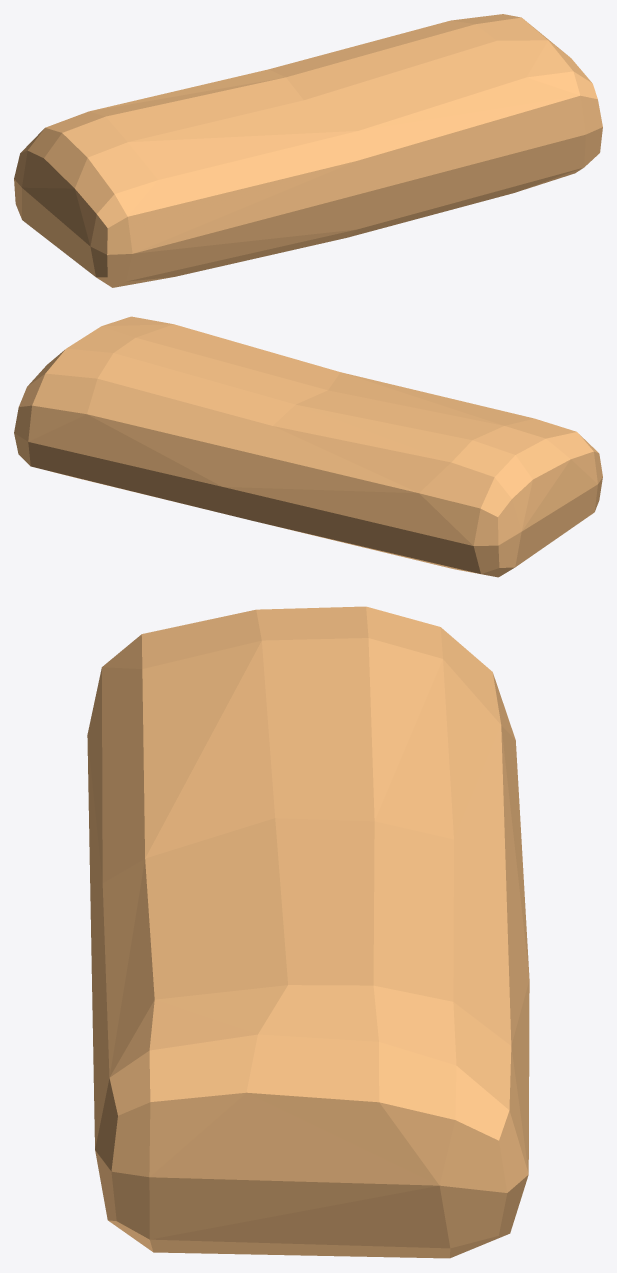
The model's file is Sandbag 01.fbx.
3 renders of one model, top to bottom at view 1: azimuth 30°, elevation 25°; view 2: azimuth 150°, elevation 25°; view 3: azimuth 270°, elevation 25°, orthographic. The views are drawn at different scales.
Visible parts, largest first — view 1: Sandbag 01; view 2: Sandbag 01; view 3: Sandbag 01.
Part boxes in pixels (x1,y1,x2,y2): Sandbag 01: (14, 14, 602, 287); Sandbag 01: (14, 316, 602, 577); Sandbag 01: (87, 606, 529, 1258).
Size of the model in its own units: 74.32 by 17.27 by 28.42.
